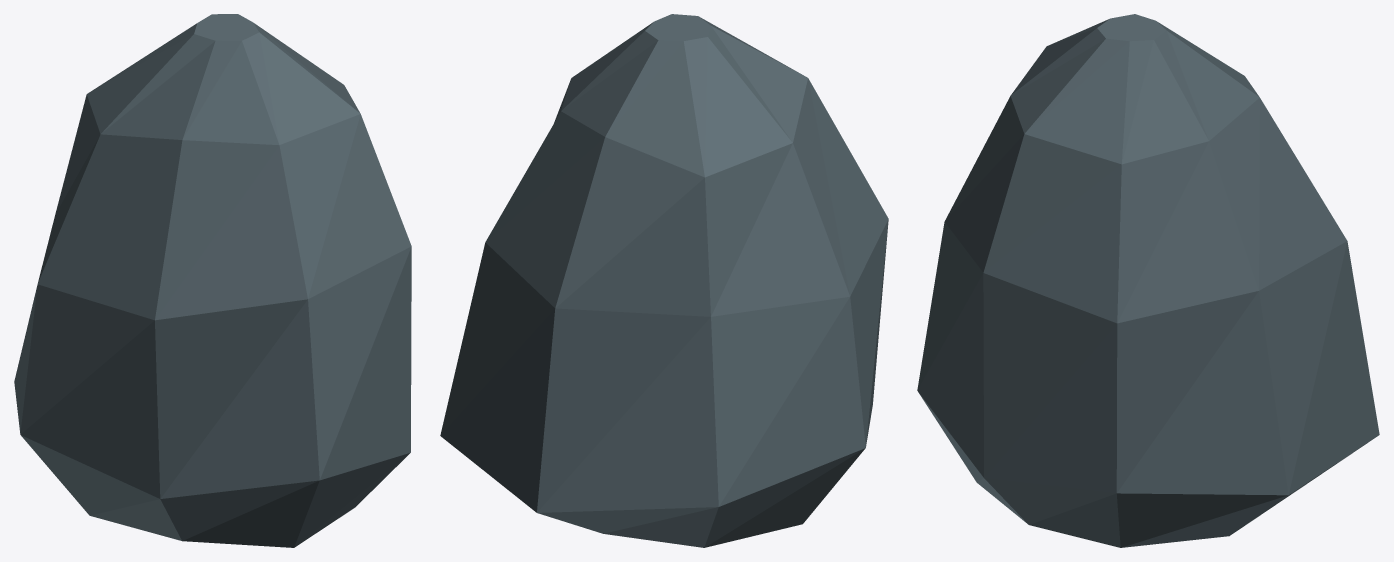
File: rock_a.glb
3 views of the same model, side by side, from view 1: azimuth 30°, elevation 25°; view 2: azimuth 150°, elevation 25°; view 3: azimuth 270°, elevation 25° (orthographic).
Parts seen in each view (by area): view 1: rock_a; view 2: rock_a; view 3: rock_a.
Part boxes in pixels (box(x1,y1,x2,y2)): rock_a: box(14, 14, 411, 547); rock_a: box(440, 14, 888, 547); rock_a: box(917, 14, 1379, 547).
Bounding box in the file's own units: 0.8275 × 1 × 0.9137.
